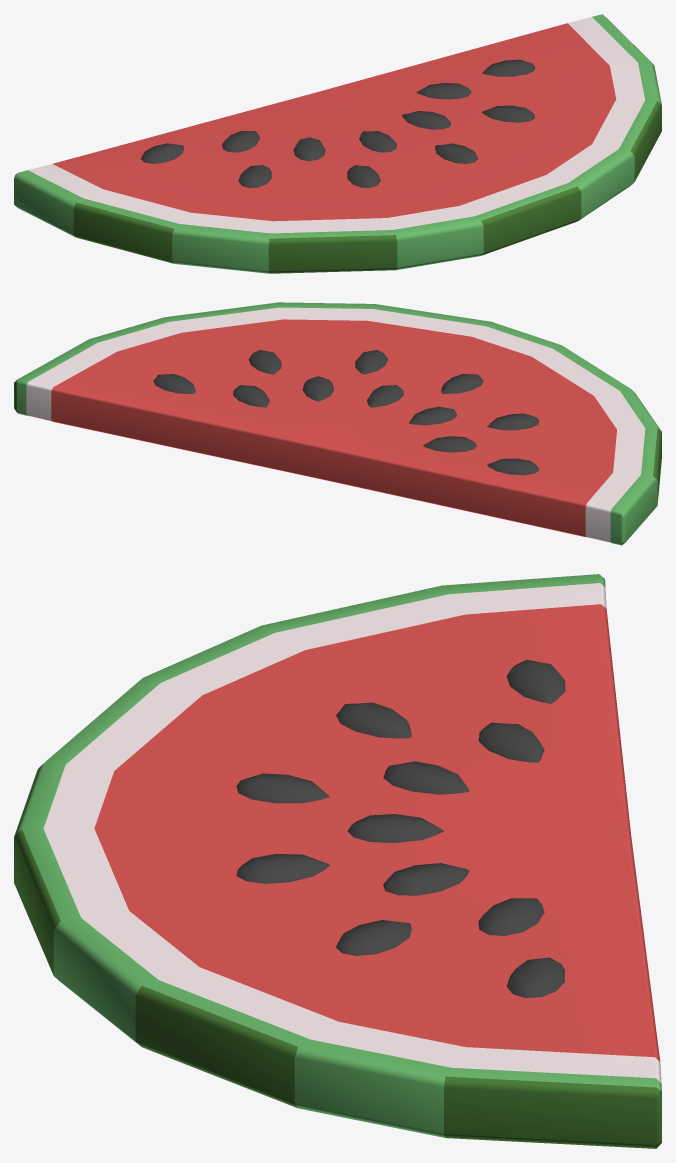
File: Watermelon_Slice_1.fbx
The picture shows the model from 3 angles, top to bottom: view 1: azimuth 30°, elevation 25°; view 2: azimuth 150°, elevation 25°; view 3: azimuth 270°, elevation 25°; orthographic projection. The views are drawn at different scales.
Parts seen in each view (by area): view 1: Watermelon_Slice_1; view 2: Watermelon_Slice_1; view 3: Watermelon_Slice_1.
Part boxes in pixels (box(x1,y1,x2,y2)): Watermelon_Slice_1: box(14, 14, 661, 273); Watermelon_Slice_1: box(14, 302, 661, 545); Watermelon_Slice_1: box(14, 574, 661, 1148).
Size of the model in its own units: 30.2 by 2.26 by 15.9.
